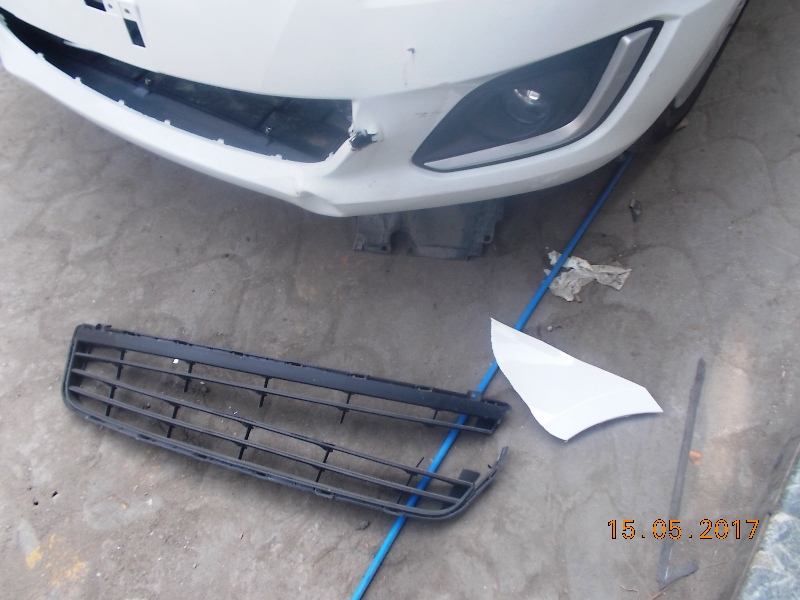Tear: (347, 123, 373, 156)
